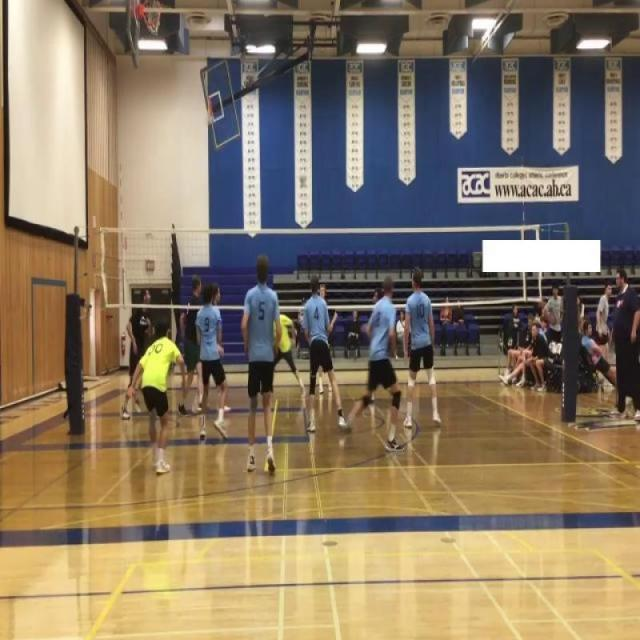volleyball: (297, 170, 308, 186)
